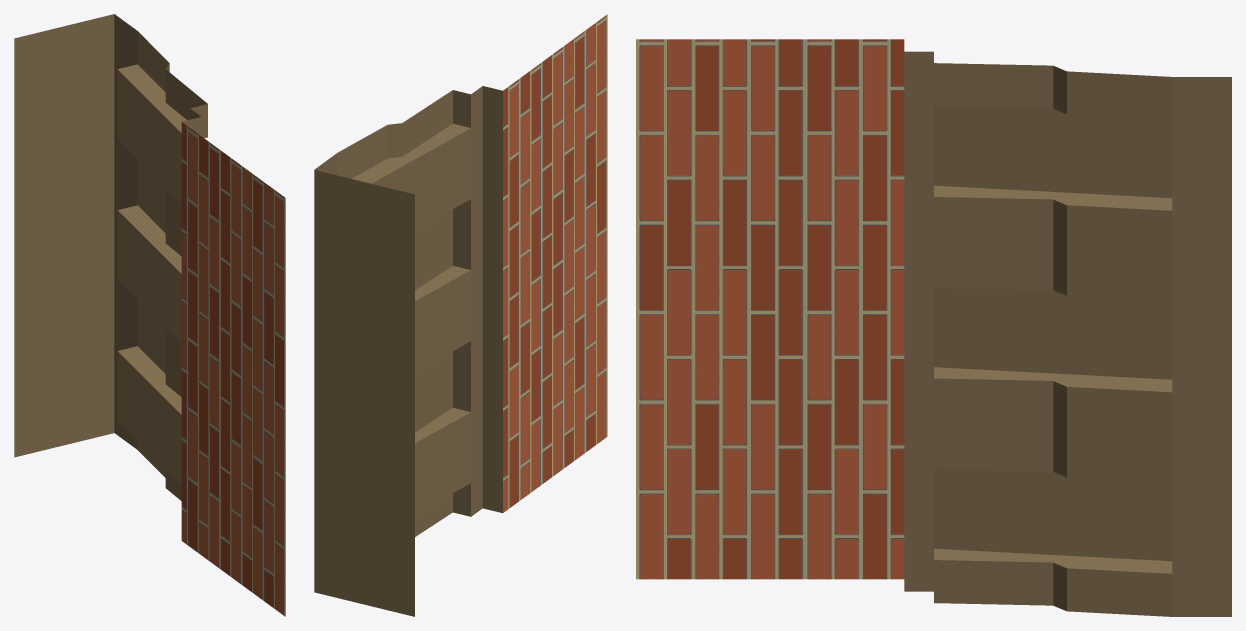
The model's file is wall04.fbx.
3 renders of one model, left to right at view 1: azimuth 30°, elevation 25°; view 2: azimuth 150°, elevation 25°; view 3: azimuth 270°, elevation 25°, orthographic. The views are drawn at different scales.
Visible parts, largest first — view 1: Cube; view 2: Cube; view 3: Cube.
Part boxes in pixels (x1,y1,x2,y2): Cube: (14,14,285,616); Cube: (314,14,607,616); Cube: (636,39,1231,616).
Size of the model in its own units: 50 by 200 by 200.
